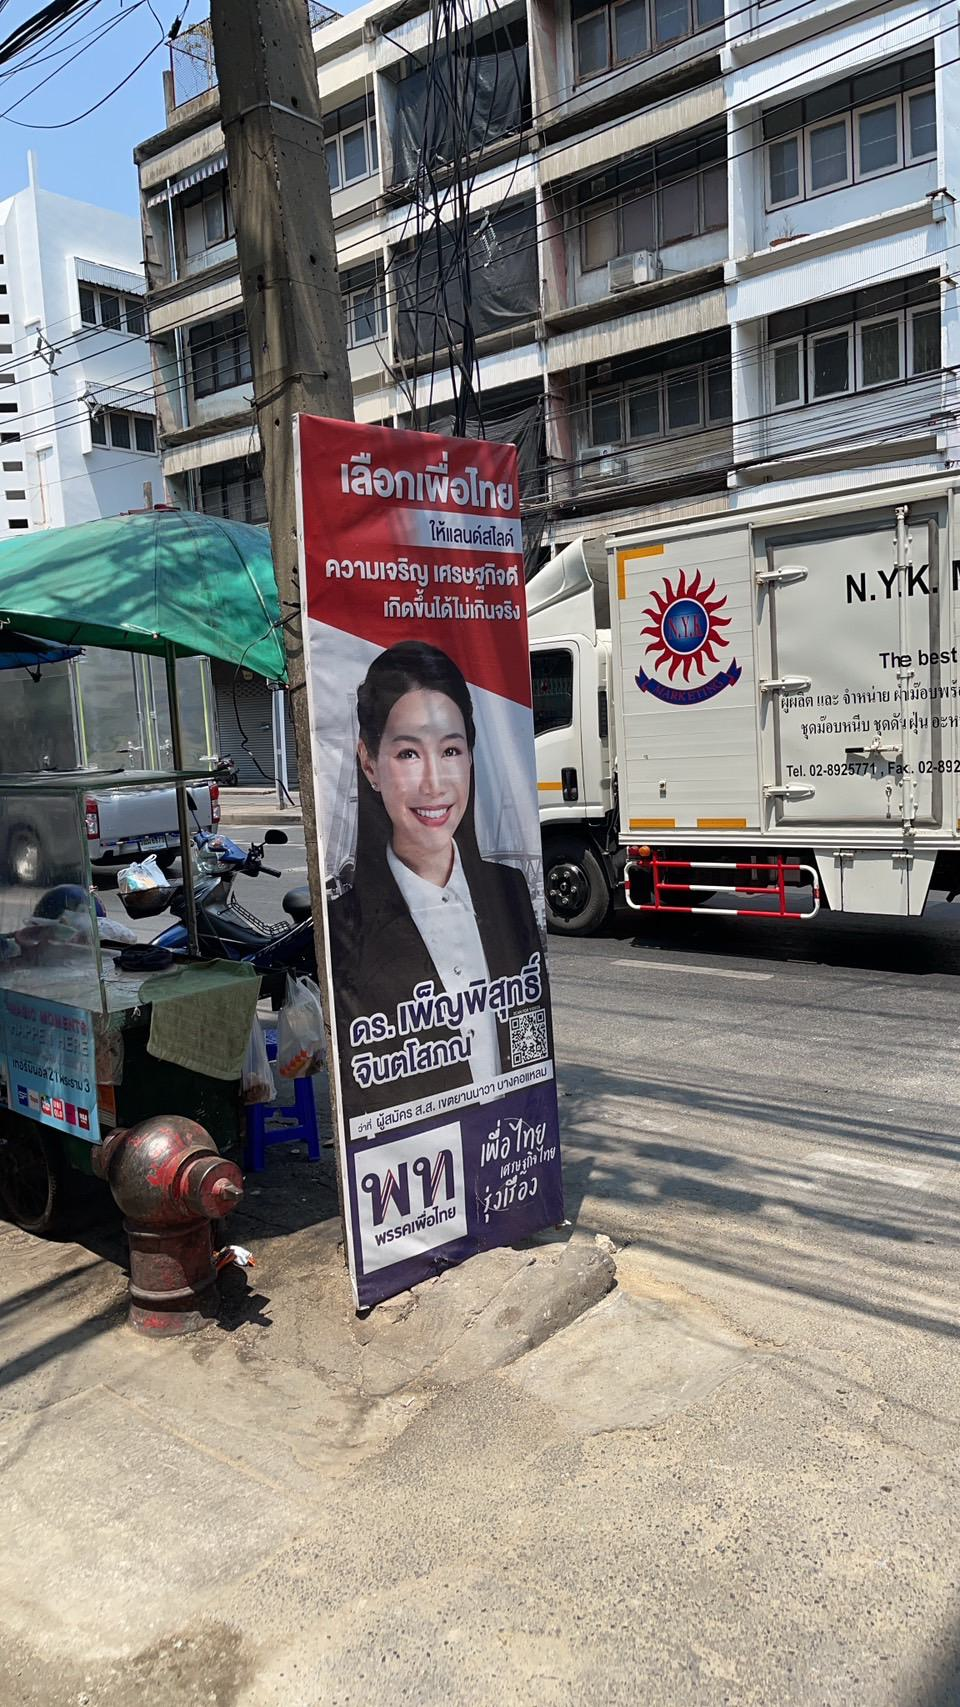Banner: (293, 409, 583, 1298)
